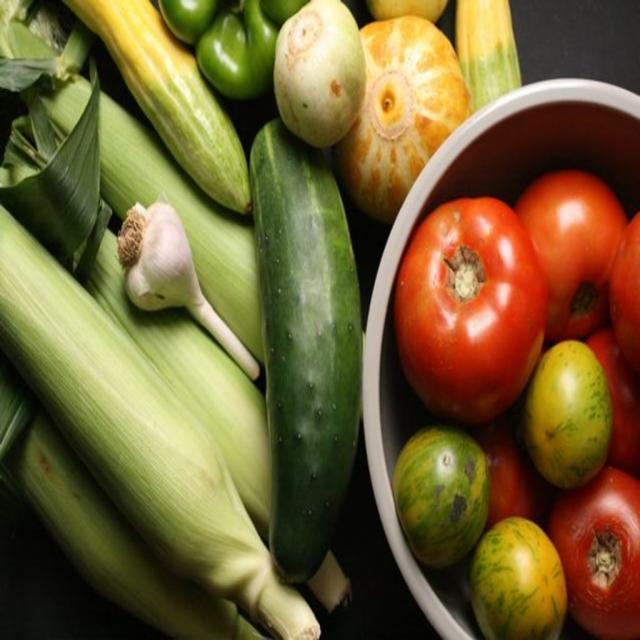Cucumber: (252, 84, 364, 592), (51, 0, 256, 214), (458, 0, 523, 115)
